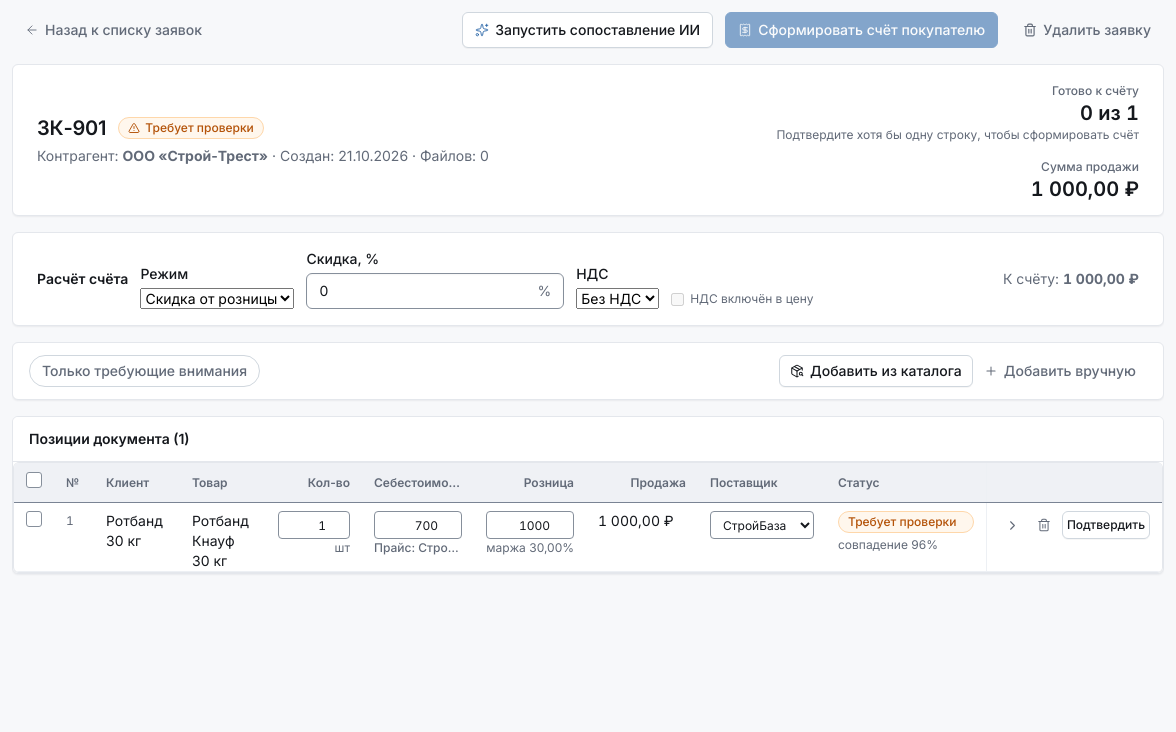
Test: Настройки расчёта в шапке заявки › пересчитывает цены на сервере и показывает их в колонке «Продажа»
Replace the text in the number field labelled "Скидка, %" with "10": (424, 291) [319,281,529,301]
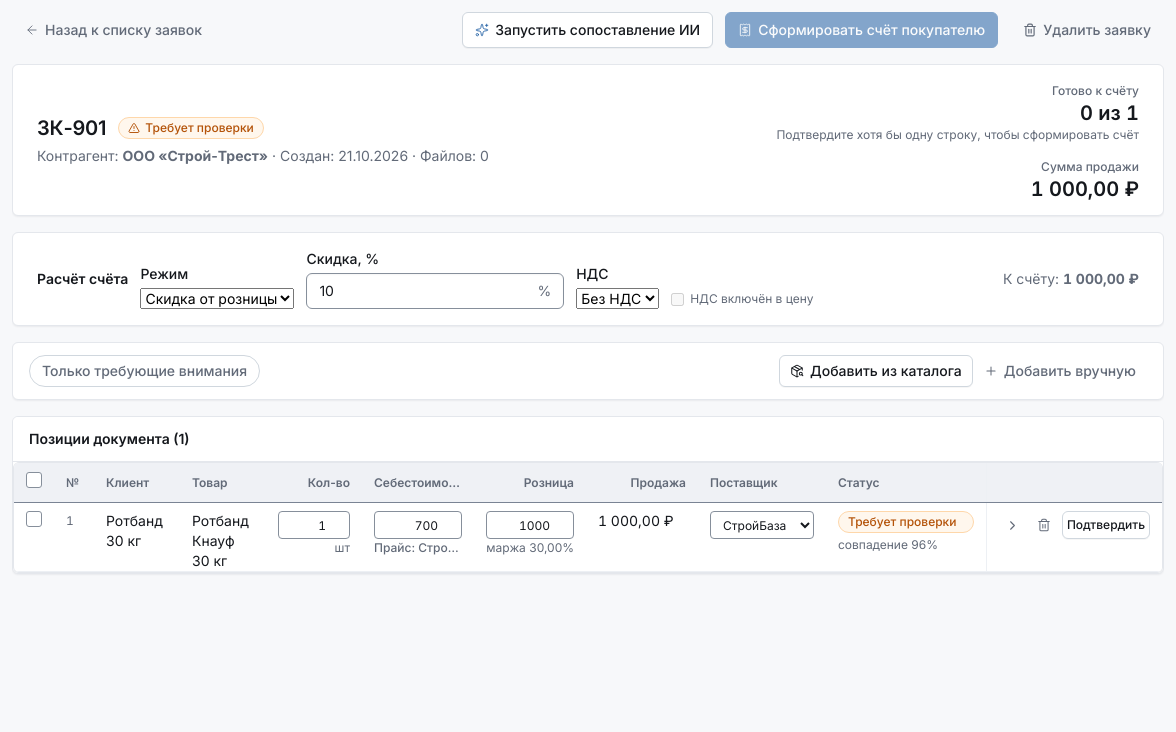
Leave the number field labelled "Скидка, %", box [319,281,529,301]
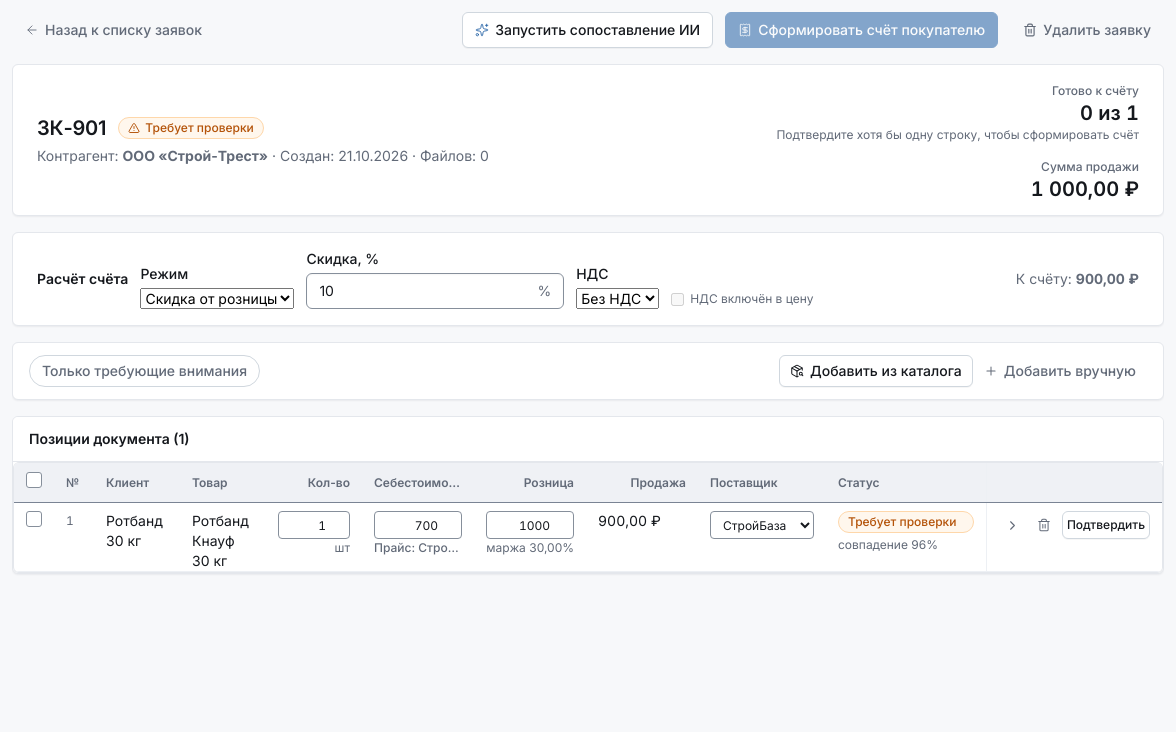
Expected: the number field named "Розница, поз. 1" holds "1000", [486,511,574,539]
Now the text named "Цена к счёту, поз. 1" reads "900,00 ₽", box [598,512,661,529]
